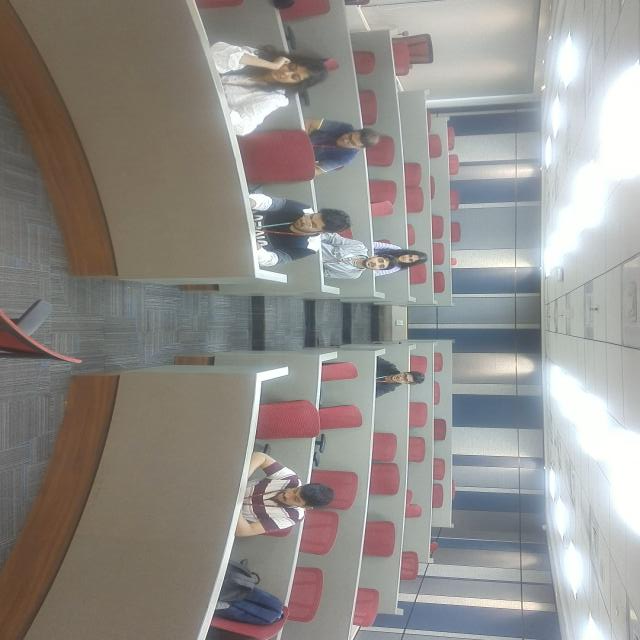non-cheating: (49, 316, 119, 448), (180, 303, 263, 402), (115, 264, 172, 332)
